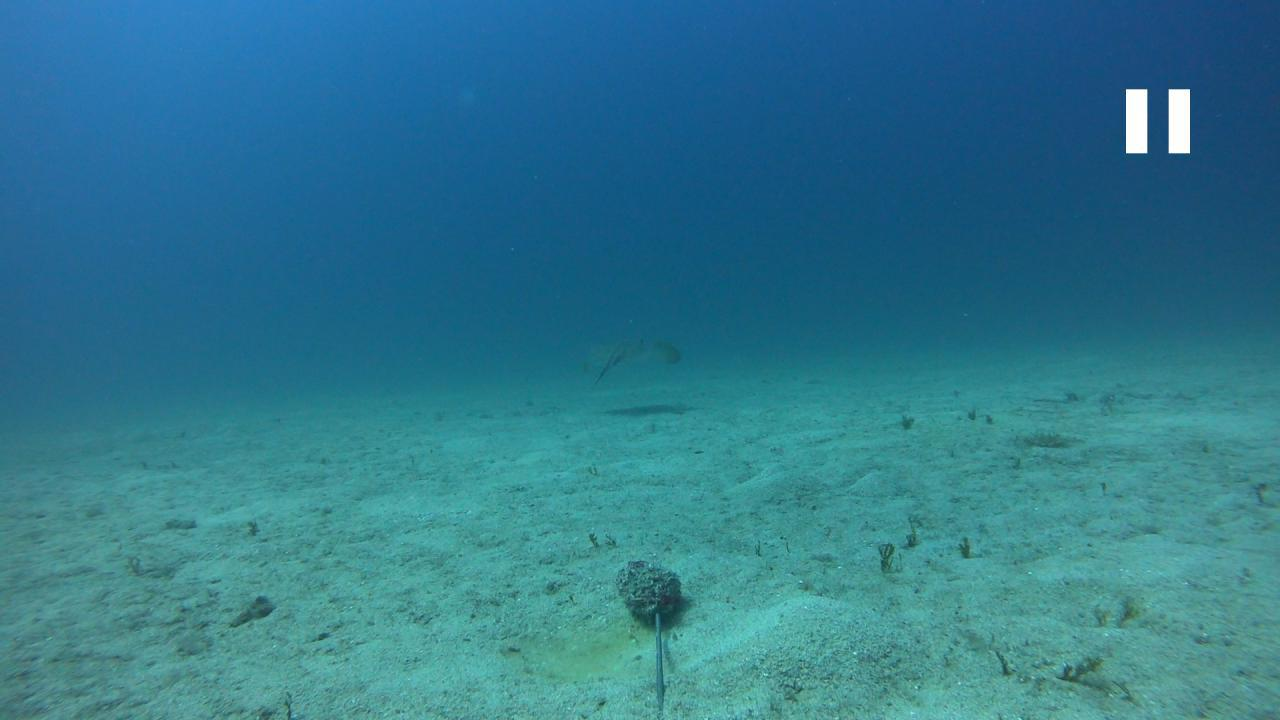dasyatis: (580, 335, 680, 387)
